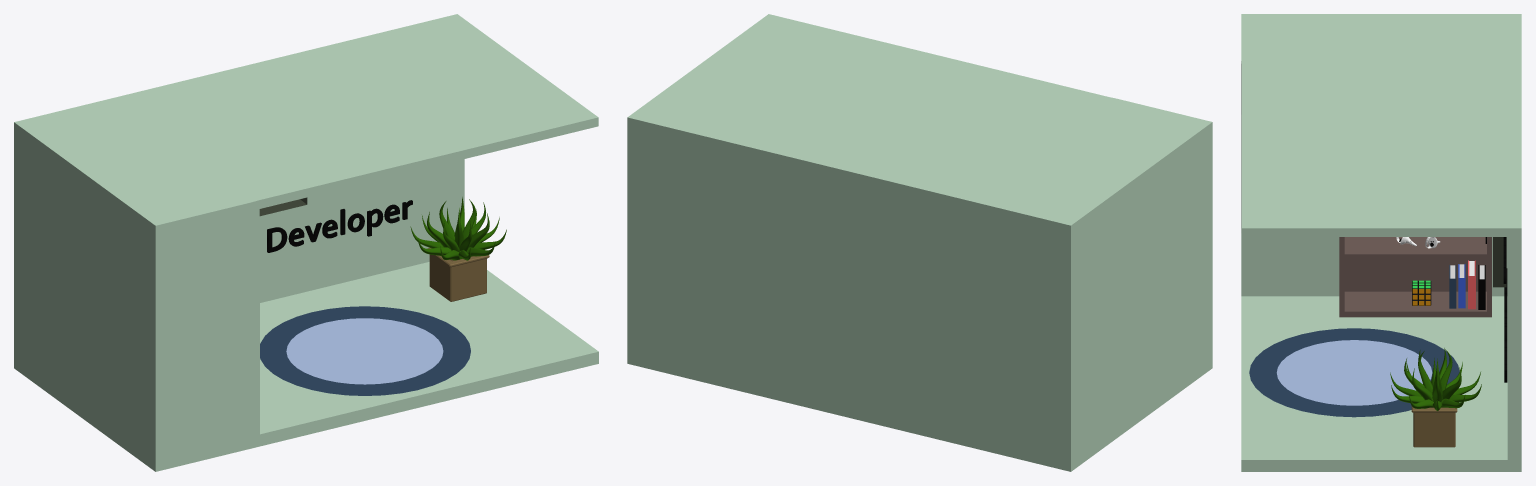
3 renders of one model, left to right at view 1: azimuth 30°, elevation 25°; view 2: azimuth 150°, elevation 25°; view 3: azimuth 270°, elevation 25°, orthographic.
Visible parts, largest first — view 1: Walls.001, Carpet, Pot, Title, Plant1.001, Plant1; view 2: Walls.001; view 3: Walls.001, Carpet, Furniture, Plant1.001, Pot, Plant1, Frame, RubiksCube, Title, Book.006, Book, Book.007 (+1 smaller).
Boxes of the visible parts, x1=… form: Walls.001: x1=14, y1=14, x2=598, y2=471; Carpet: x1=260, y1=306, x2=470, y2=395; Pot: x1=428, y1=248, x2=489, y2=301; Title: x1=267, y1=200, x2=412, y2=252; Plant1.001: x1=410, y1=199, x2=506, y2=260; Plant1: x1=427, y1=197, x2=489, y2=251; Walls.001: x1=627, y1=14, x2=1212, y2=471; Walls.001: x1=1241, y1=14, x2=1521, y2=471; Carpet: x1=1249, y1=328, x2=1459, y2=417; Furniture: x1=1339, y1=237, x2=1491, y2=317; Plant1.001: x1=1390, y1=350, x2=1481, y2=410; Pot: x1=1411, y1=406, x2=1457, y2=447; Plant1: x1=1404, y1=348, x2=1461, y2=401; Frame: x1=1493, y1=237, x2=1506, y2=287; RubiksCube: x1=1412, y1=280, x2=1431, y2=305; Title: x1=1504, y1=268, x2=1507, y2=382; Book.006: x1=1468, y1=260, x2=1475, y2=309; Book: x1=1478, y1=265, x2=1485, y2=309; Book.007: x1=1458, y1=264, x2=1465, y2=308.
Size of the model in its own units: 7.63 by 4.05 by 4.22.
26 materials, 3 textured.
